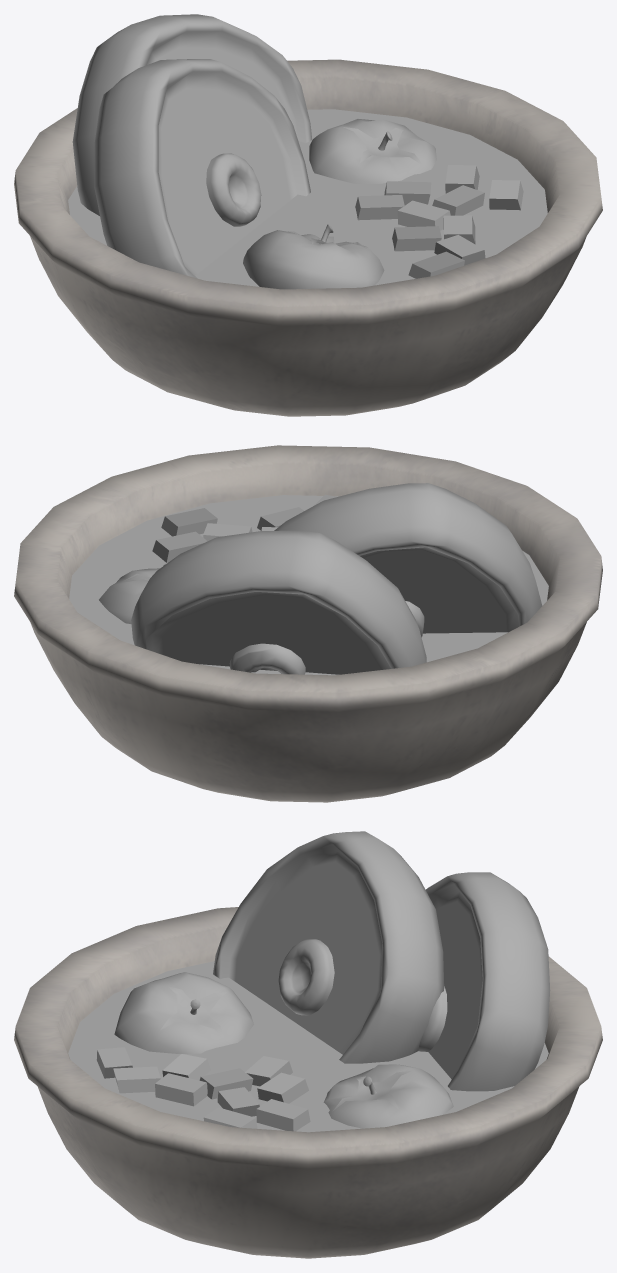
Rendered from dish_hamsoup.fbx.
The picture shows the model from 3 angles, top to bottom: view 1: azimuth 30°, elevation 25°; view 2: azimuth 150°, elevation 25°; view 3: azimuth 270°, elevation 25°; orthographic projection.
Visible parts, largest first — view 1: dish_soup; view 2: dish_soup; view 3: dish_soup.
Boxes of the visible parts, bbox=[...] form: dish_soup: bbox=[14, 14, 602, 416]; dish_soup: bbox=[14, 445, 602, 802]; dish_soup: bbox=[14, 831, 602, 1258].
Size of the model in its own units: 97.81 by 53.77 by 97.81.
